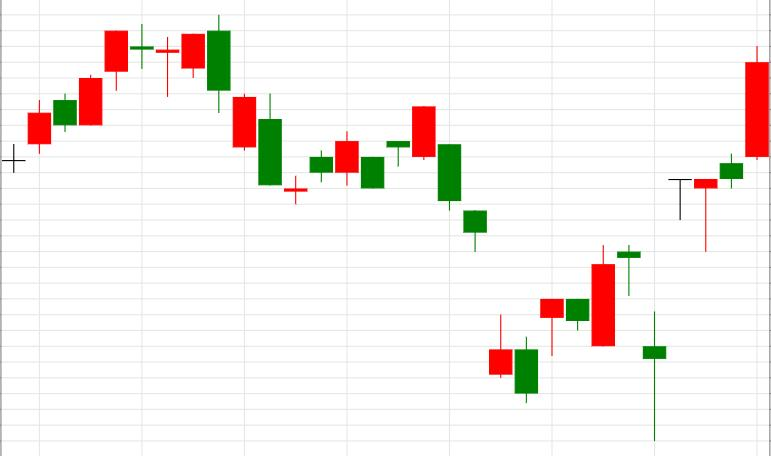bearish_engulfing_fall: (2, 14, 231, 174)
inverse_hammer_rise: (412, 107, 512, 378)
